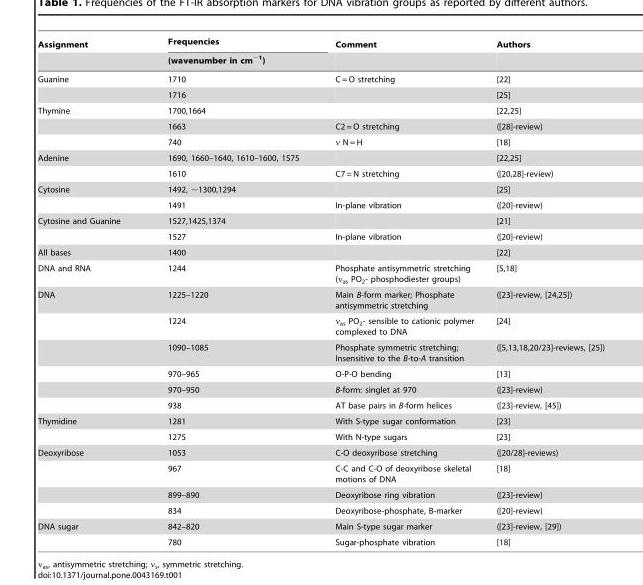table: (37, 36, 604, 546)
table column: (143, 36, 316, 546), (316, 36, 484, 546), (484, 36, 604, 546), (37, 36, 143, 546)
table column header: (37, 36, 604, 69)
table row: (37, 312, 604, 339), (37, 260, 604, 286), (37, 286, 604, 312), (37, 339, 604, 365), (37, 460, 604, 486), (37, 51, 604, 69), (37, 69, 604, 86), (37, 180, 604, 197), (37, 86, 604, 102), (37, 102, 604, 118), (37, 118, 604, 134), (37, 149, 604, 165), (37, 212, 604, 228), (37, 228, 604, 244), (37, 244, 604, 260), (37, 365, 604, 381), (37, 381, 604, 397), (37, 397, 604, 413), (37, 428, 604, 444), (37, 444, 604, 460), (37, 486, 604, 502), (37, 502, 604, 518), (37, 518, 604, 534), (37, 36, 604, 51), (37, 134, 604, 149), (37, 165, 604, 180), (37, 197, 604, 212), (37, 413, 604, 428), (37, 534, 604, 546)
table spanning cell: (37, 286, 143, 413), (37, 444, 143, 518), (143, 36, 316, 69), (316, 36, 484, 69), (37, 102, 143, 149), (484, 36, 604, 69), (37, 36, 143, 69), (37, 69, 143, 102), (37, 180, 143, 212), (37, 212, 143, 244), (37, 149, 143, 180), (37, 413, 143, 444), (37, 518, 143, 546)
